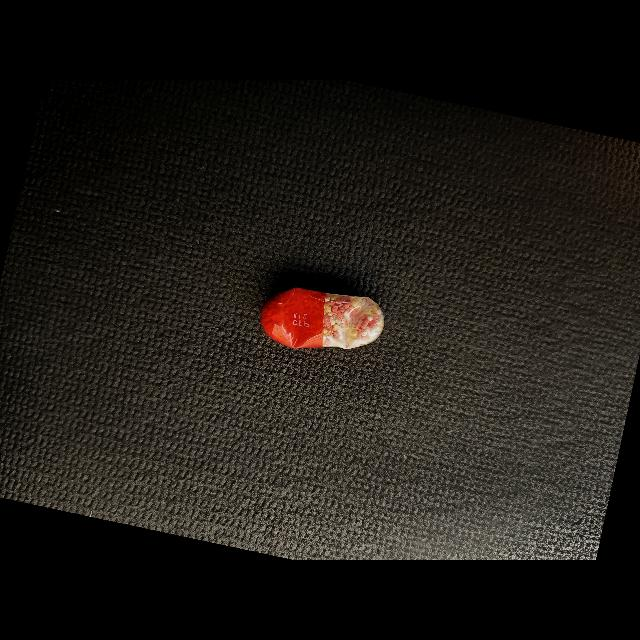Defective Capsule: (260, 287, 384, 349)
